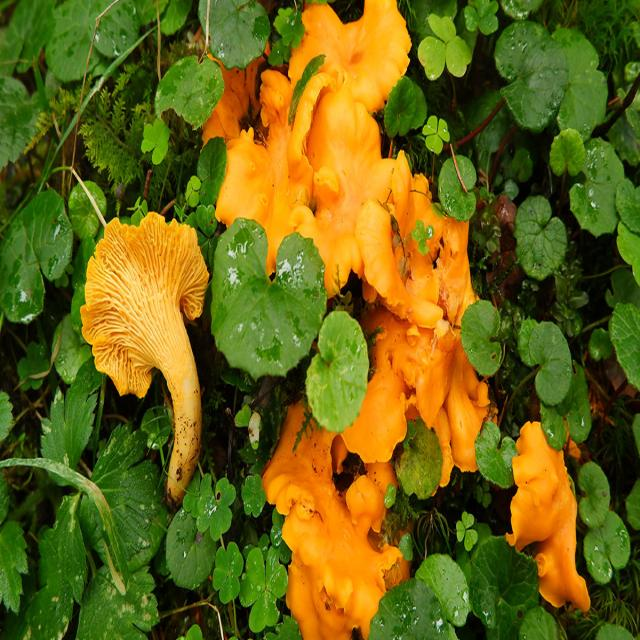chanterelle: (80, 212, 209, 510), (215, 71, 331, 279), (307, 86, 395, 282)
